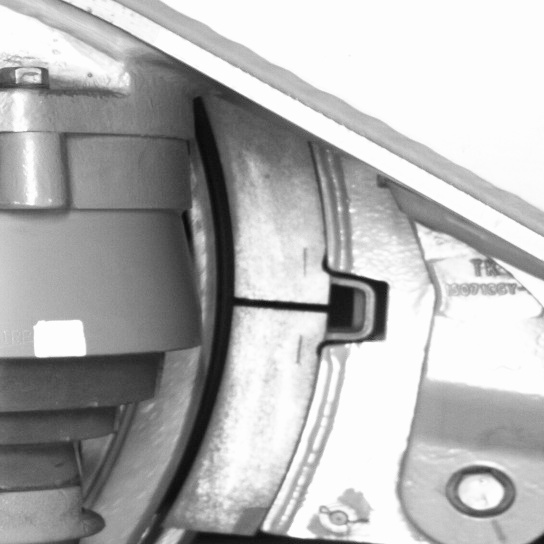KnifeSwitch: (126, 135, 346, 541)
